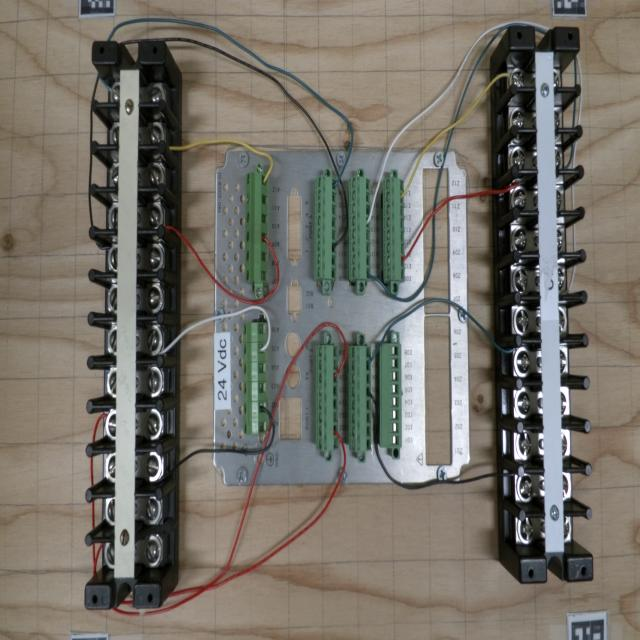Flathead_Block: (86, 41, 166, 609)
Phillips_Block: (510, 26, 592, 582)
Terminal_1: (243, 323, 268, 434), (245, 171, 268, 283)
Terminal_2: (314, 174, 337, 280), (349, 346, 371, 453), (316, 345, 338, 451), (383, 176, 404, 281), (349, 175, 370, 279)
